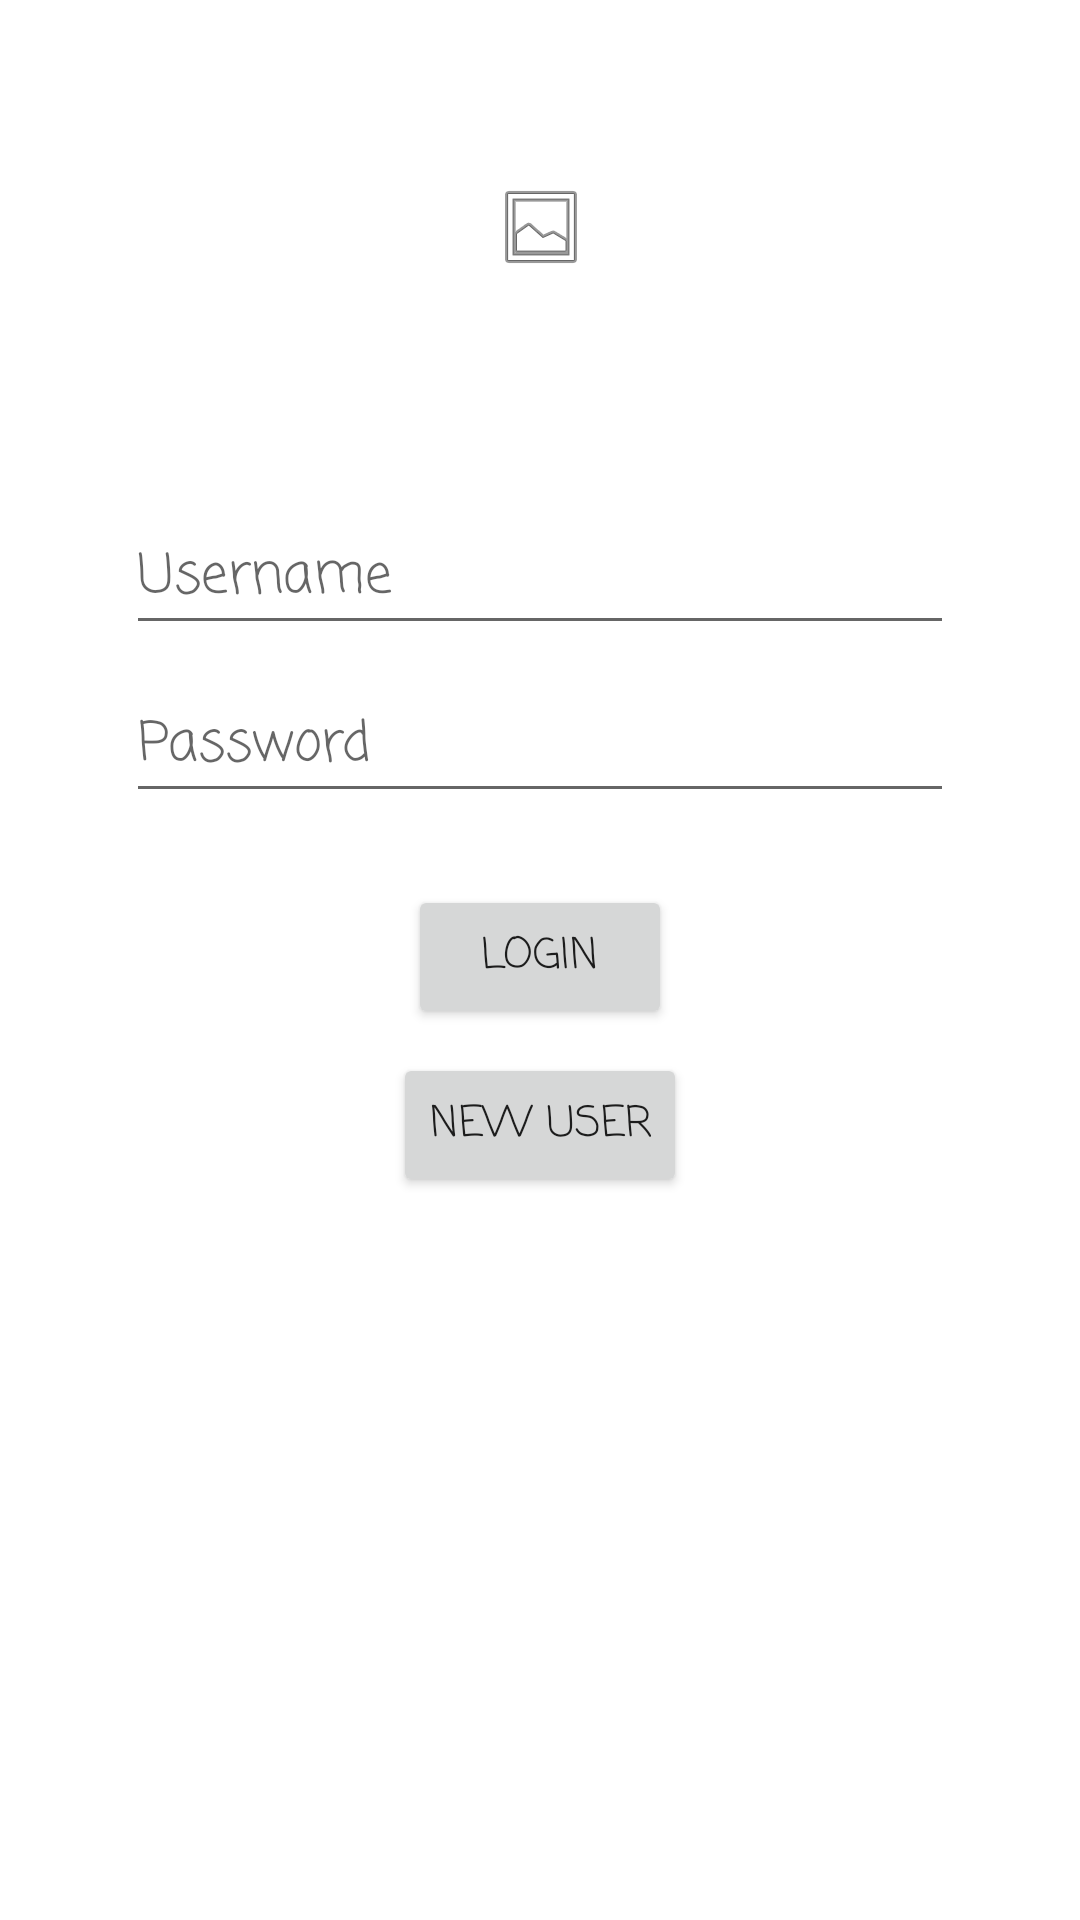

Icon click points for this 1080w x 1920h phone screenshot, format (x=x, y=y):
gallery: (x=541, y=227)
